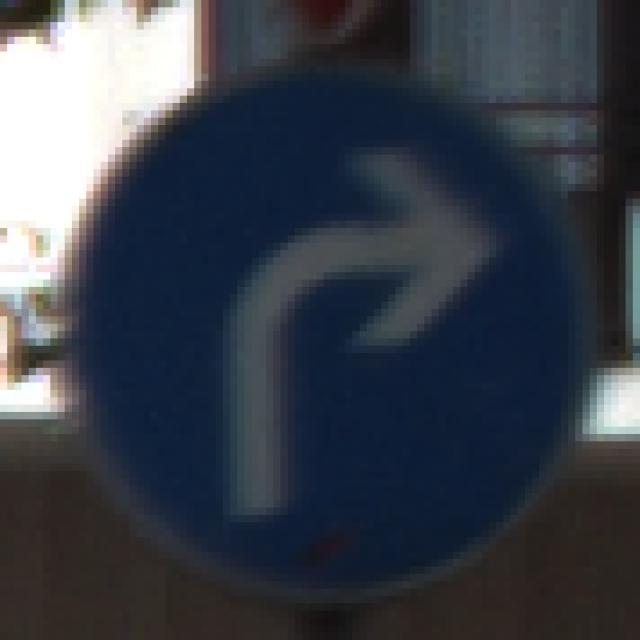compulsary turn right ahead: (72, 64, 588, 599)
